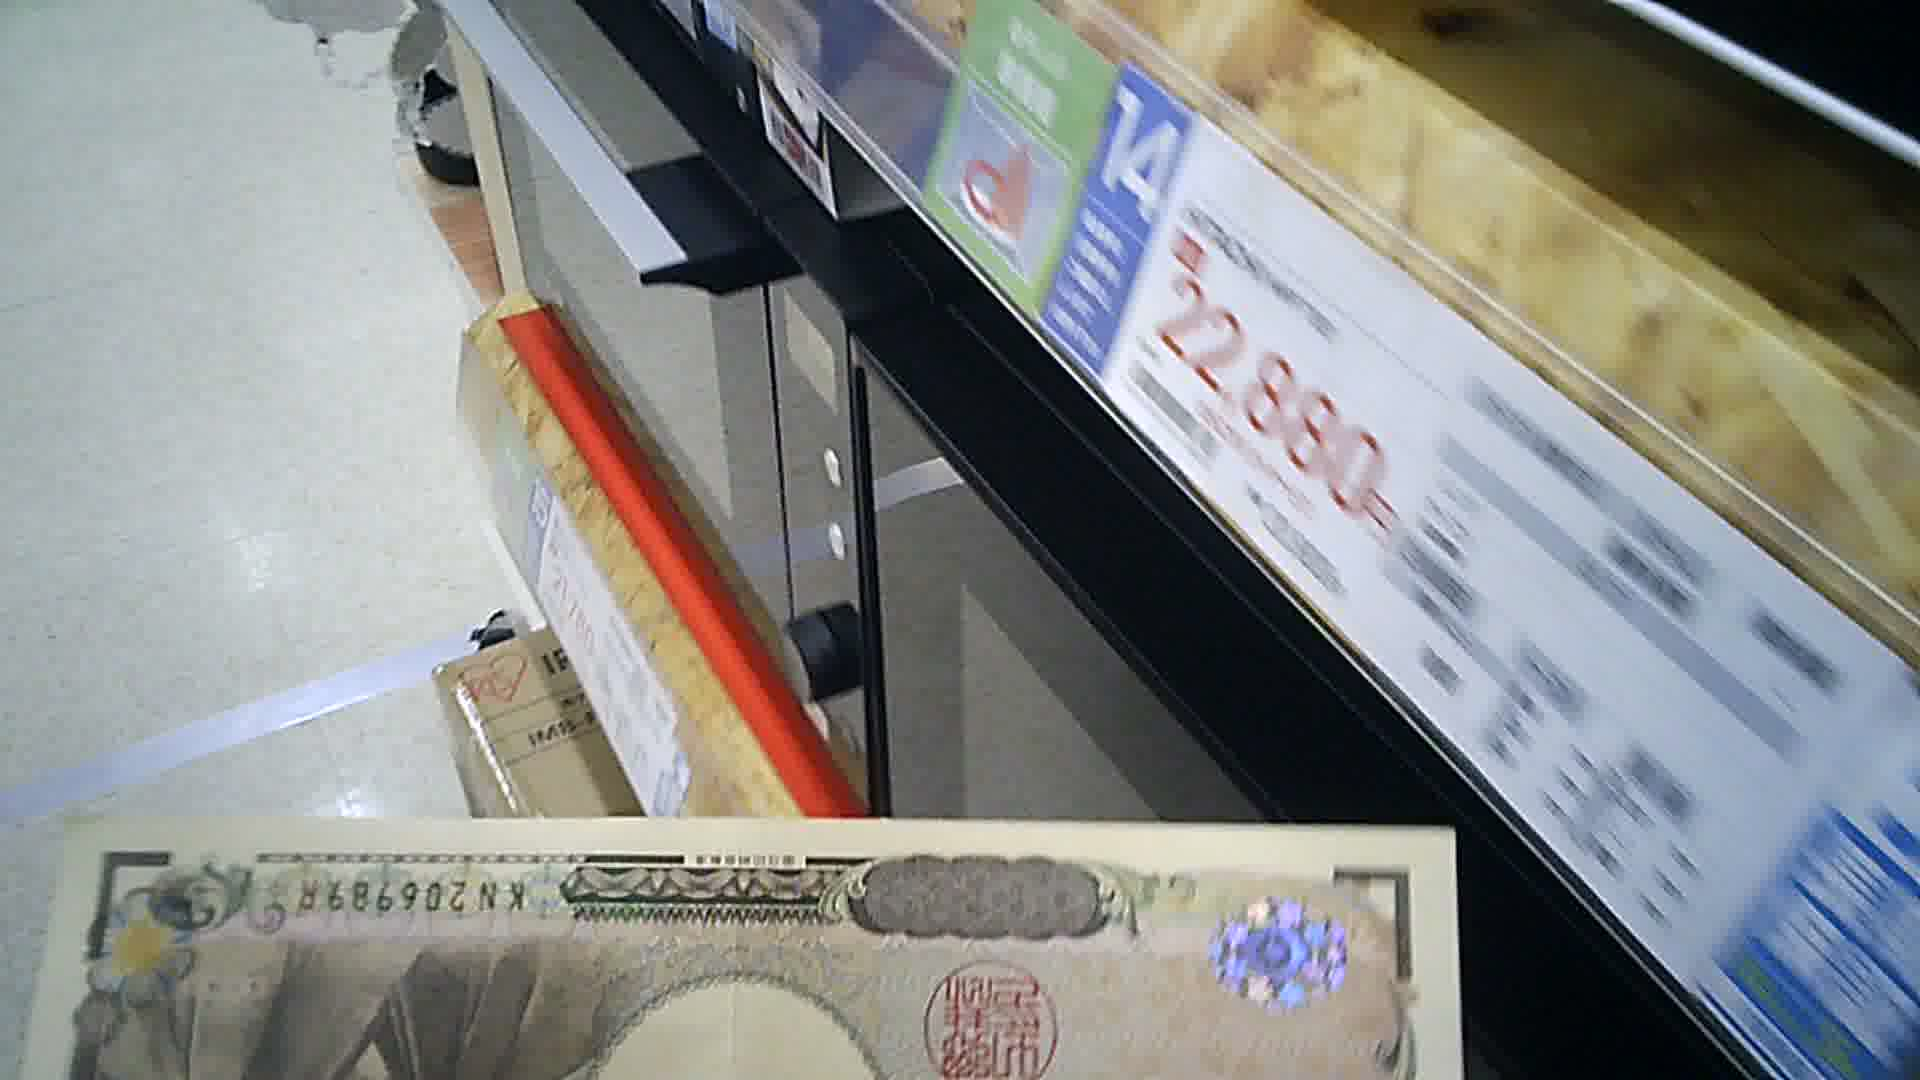10,000 Yen: (28, 823, 1464, 1079)
